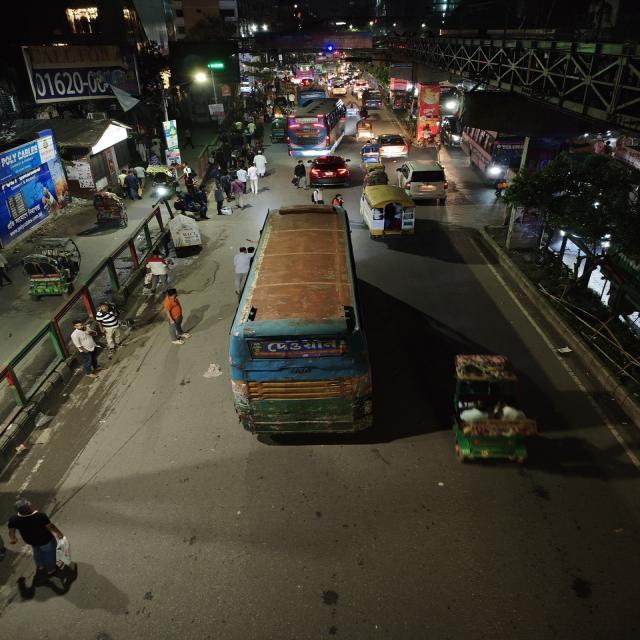bus: (219, 204, 370, 447), (284, 97, 349, 157), (459, 128, 522, 181), (294, 65, 315, 79), (322, 61, 339, 74)
car: (396, 160, 452, 200), (304, 153, 352, 187), (372, 132, 410, 158), (349, 82, 369, 94), (331, 84, 347, 95)
human_hauler: (357, 186, 419, 242)
pedestrian: (0, 494, 84, 577), (88, 304, 128, 354), (158, 288, 190, 344), (69, 326, 102, 374), (141, 250, 174, 290), (226, 248, 249, 290), (188, 185, 211, 219), (122, 170, 142, 200), (290, 159, 309, 189), (251, 151, 271, 179), (210, 185, 228, 215), (171, 188, 188, 218), (231, 174, 244, 208), (238, 165, 252, 189), (308, 186, 324, 205)
pickup_van: (361, 90, 385, 110)
rickshaw: (443, 351, 544, 473), (18, 237, 86, 300), (88, 190, 130, 228), (359, 142, 384, 170), (264, 119, 286, 144), (354, 119, 374, 142), (347, 102, 361, 118)
